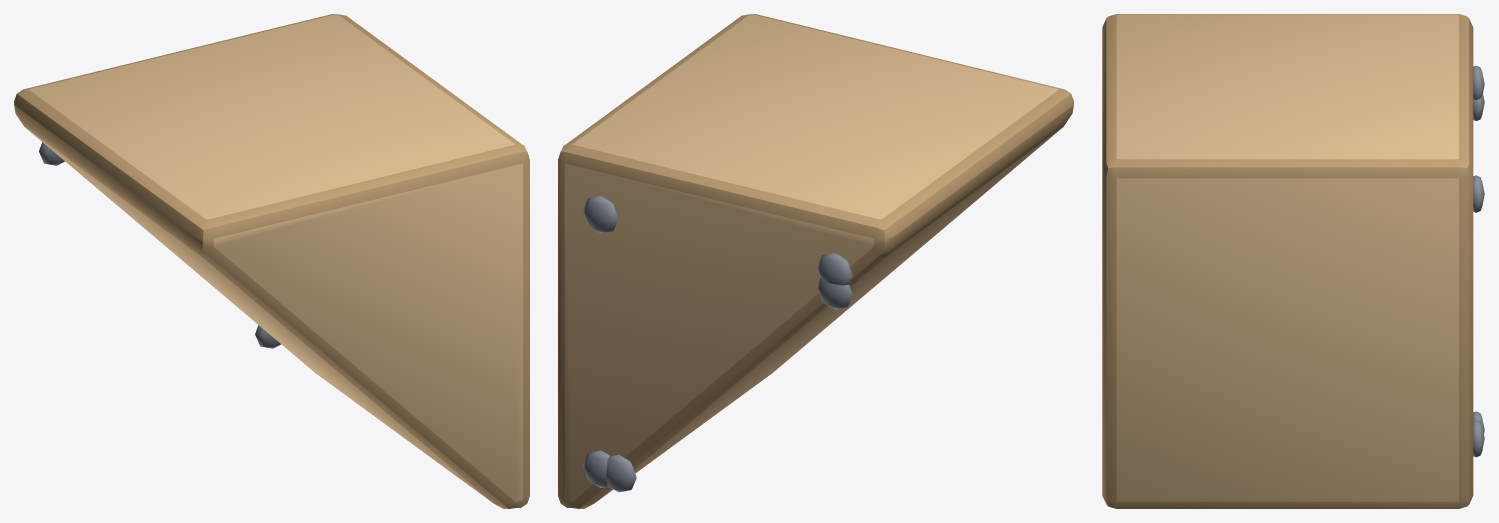
Rendered from TriangleSmallWood.fbx.
The picture shows the model from 3 angles, left to right: view 1: azimuth 30°, elevation 25°; view 2: azimuth 150°, elevation 25°; view 3: azimuth 270°, elevation 25°; orthographic projection. The views are drawn at different scales.
Parts seen in each view (by area): view 1: TriangleSmallWood; view 2: TriangleSmallWood; view 3: TriangleSmallWood.
Boxes of the visible parts, box(x1,y1,x2,y2) form: TriangleSmallWood: box(14, 14, 529, 508); TriangleSmallWood: box(558, 14, 1073, 508); TriangleSmallWood: box(1102, 14, 1484, 508).
Bounding box in the file's own units: 1.3 × 1.35 × 1.34.
